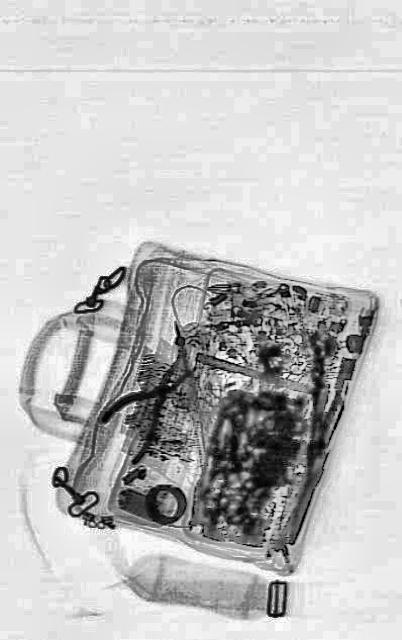Pliers: (99, 336, 202, 472)
